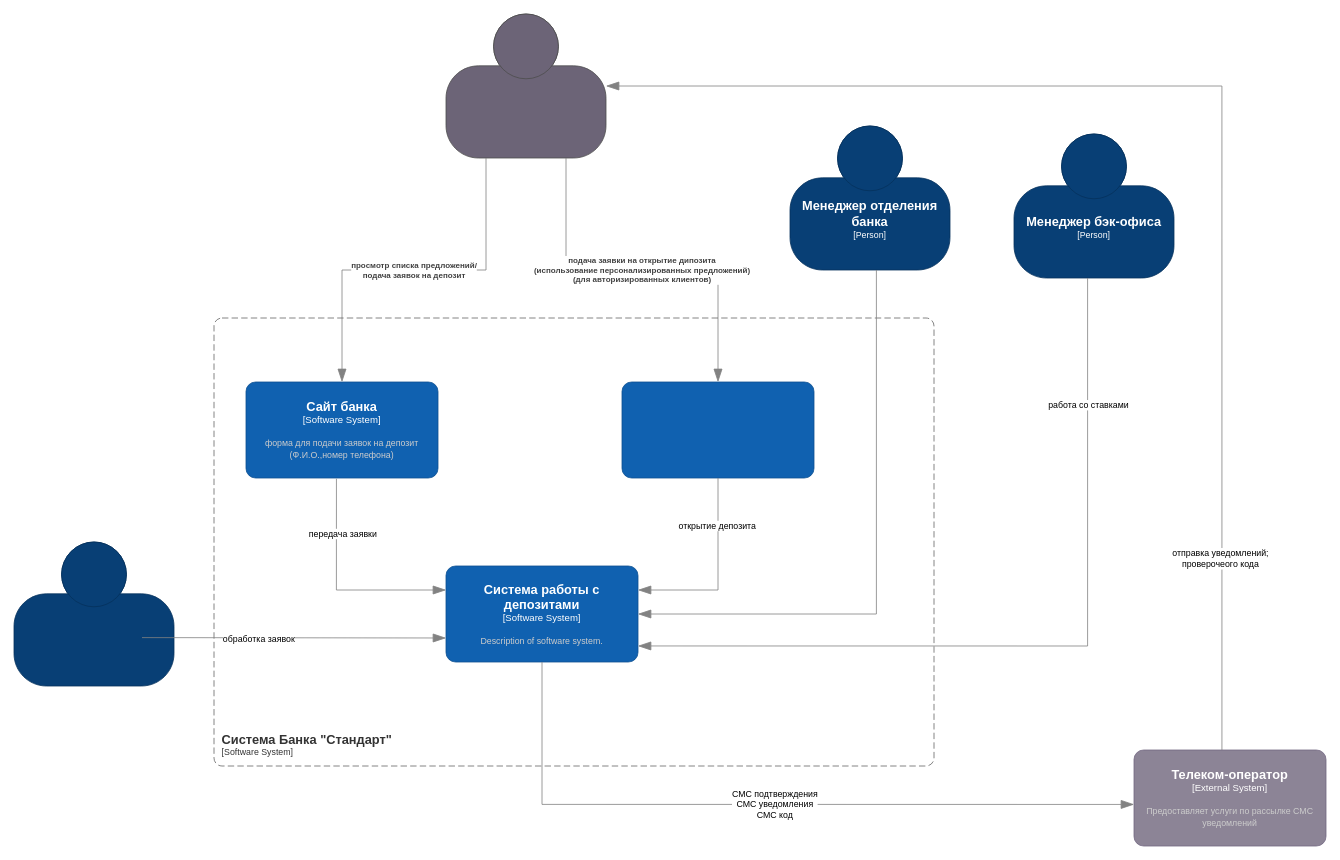
Some shapes in this 1340 by 860 pixel diagram are drawn without their labels. The centre of each missing label's shape, as x and y in pixels:
Интернет-банк [Software System]: point 717,429
Клиент банка [Person]: point 525,85
Менеджер кол-центра [Person]: point 93,613
